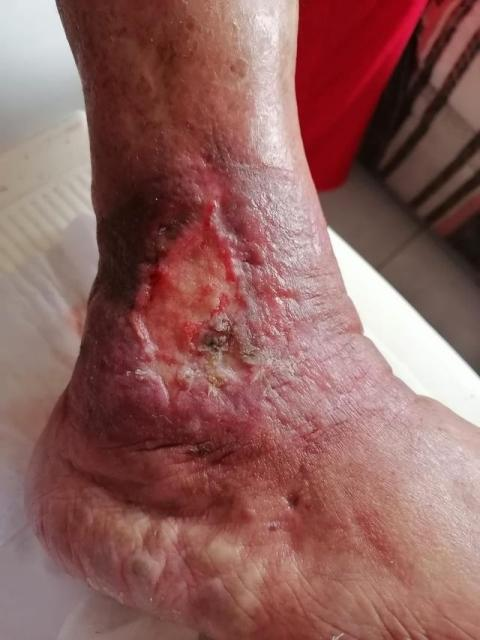wound: (140, 176, 273, 407)
